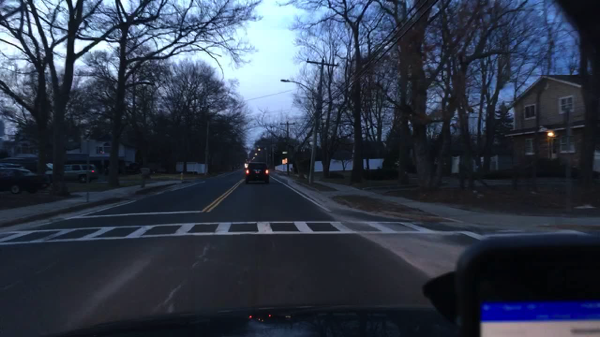car: (1, 157, 53, 187), (0, 163, 45, 195), (64, 162, 98, 182), (244, 162, 269, 184)
traffic sign: (280, 151, 287, 154), (283, 158, 286, 164), (282, 159, 284, 165)
